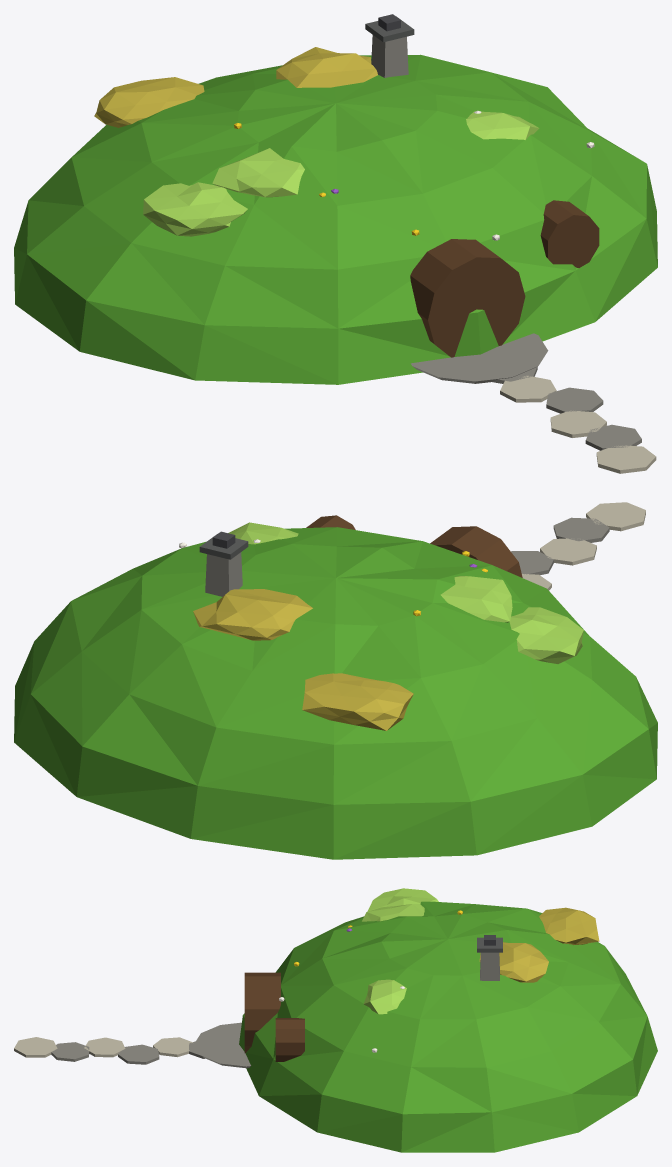
The model's file is hobbit_hole_2.glb.
3 views of the same model, one above another, from view 1: azimuth 30°, elevation 25°; view 2: azimuth 150°, elevation 25°; view 3: azimuth 270°, elevation 25° (orthographic). The views are drawn at different scales.
Parts seen in each view (by area): view 1: hobbit_hole_2; view 2: hobbit_hole_2; view 3: hobbit_hole_2.
Boxes of the visible parts, x1,y1,x2,y2 form: hobbit_hole_2: (14,14,657,473); hobbit_hole_2: (14,502,657,859); hobbit_hole_2: (14,888,657,1152).
Size of what is drawn, in the model's own units: 13.26 by 4.33 by 17.73.
